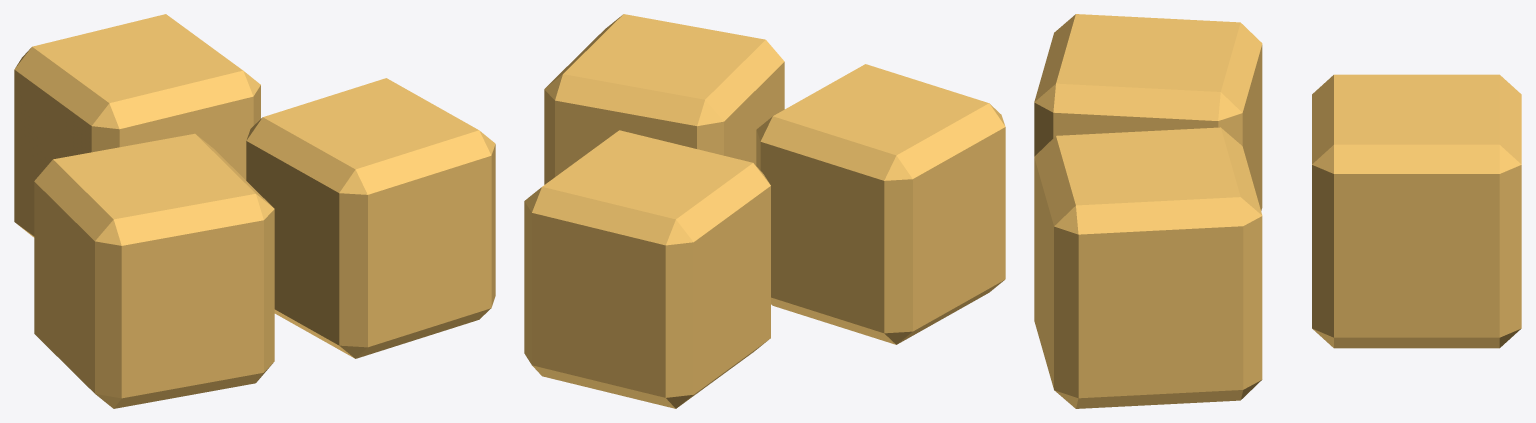
File: 21-butter-cubes.glb
3 views of the same model, side by side, from view 1: azimuth 30°, elevation 25°; view 2: azimuth 150°, elevation 25°; view 3: azimuth 270°, elevation 25° (orthographic). The views are drawn at different scales.
Parts seen in each view (by area): view 1: Butter cube 1, Butter cube 2, Butter cube 3; view 2: Butter cube 3, Butter cube 1, Butter cube 2; view 3: Butter cube 2, Butter cube 3, Butter cube 1.
Boxes of the visible parts, x1,y1,x2,y2 form: Butter cube 1: (34,133,274,408); Butter cube 2: (246,78,495,358); Butter cube 3: (14,14,260,237); Butter cube 3: (524,130,770,408); Butter cube 1: (756,64,1005,344); Butter cube 2: (544,14,784,184); Butter cube 2: (1034,127,1262,408); Butter cube 3: (1312,74,1521,348); Butter cube 1: (1034,14,1262,210).
Bounding box in the file's own units: 2.04 × 0.92 × 2.
